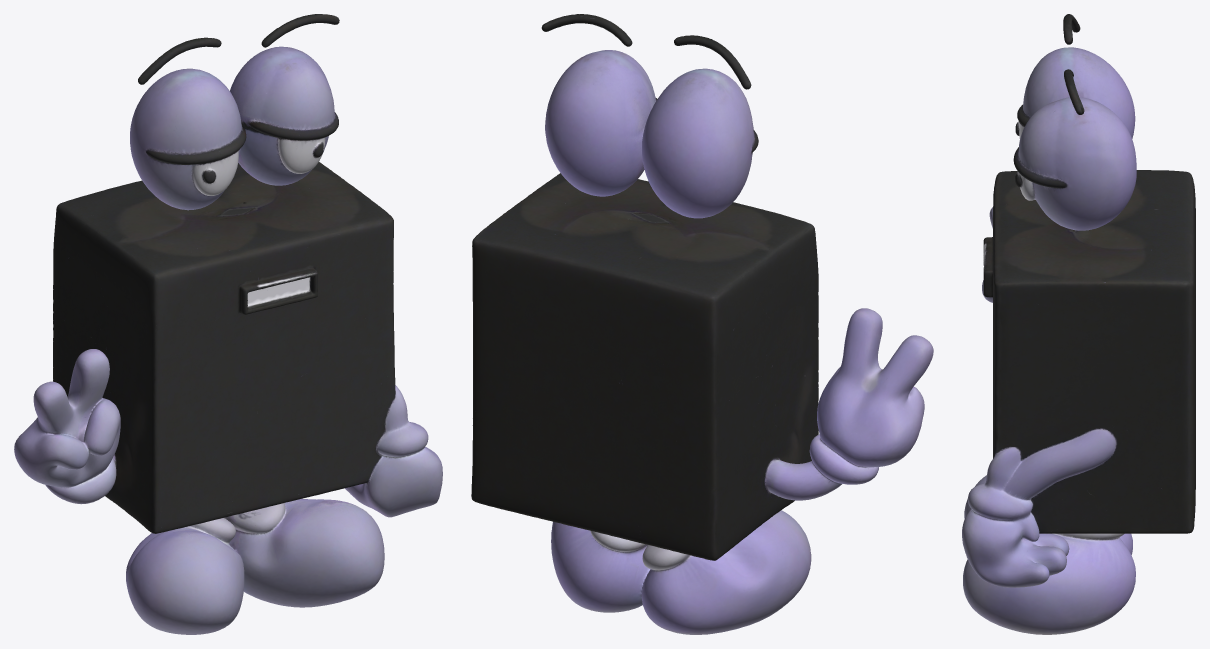
File: krate_dead.glb
3 renders of one model, left to right at view 1: azimuth 30°, elevation 25°; view 2: azimuth 150°, elevation 25°; view 3: azimuth 270°, elevation 25°, orthographic. The views are drawn at different scales.
Bounding box in the file's own units: 1.49 × 2 × 0.7562.
1 material, 1 textured.
